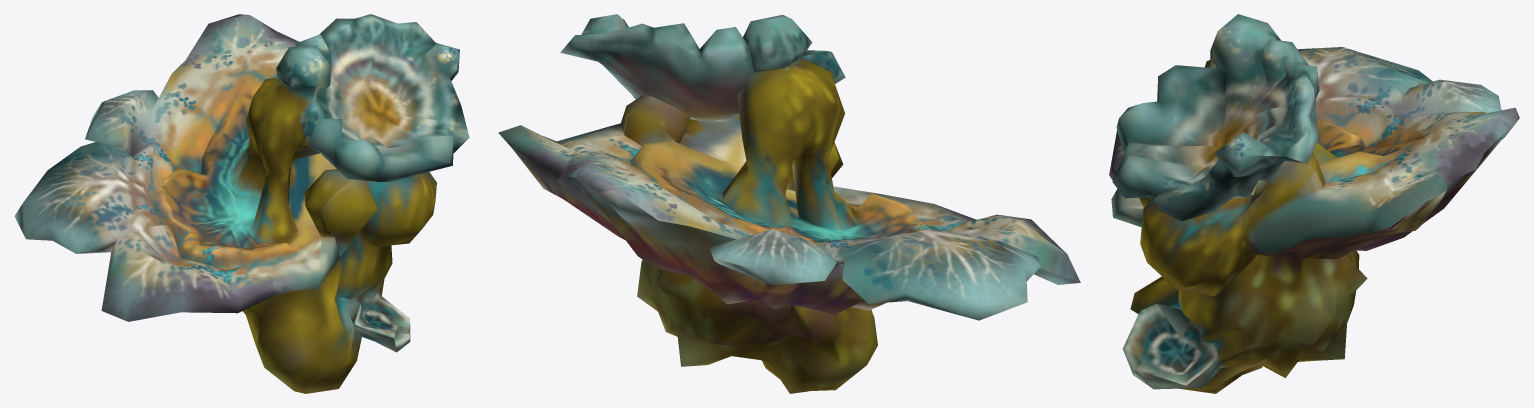
The model's file is chernobog_growth_06.fbx.
The picture shows the model from 3 angles, left to right: view 1: azimuth 30°, elevation 25°; view 2: azimuth 150°, elevation 25°; view 3: azimuth 270°, elevation 25°; orthographic projection. The views are drawn at different scales.
Visible parts, largest first — view 1: Chernobog_Growth_06; view 2: Chernobog_Growth_06; view 3: Chernobog_Growth_06.
Boxes of the visible parts, x1,y1,x2,y2 form: Chernobog_Growth_06: (14, 14, 469, 393); Chernobog_Growth_06: (498, 14, 1080, 393); Chernobog_Growth_06: (1109, 14, 1519, 393).
Size of the model in its own units: 669 by 509 by 504.
